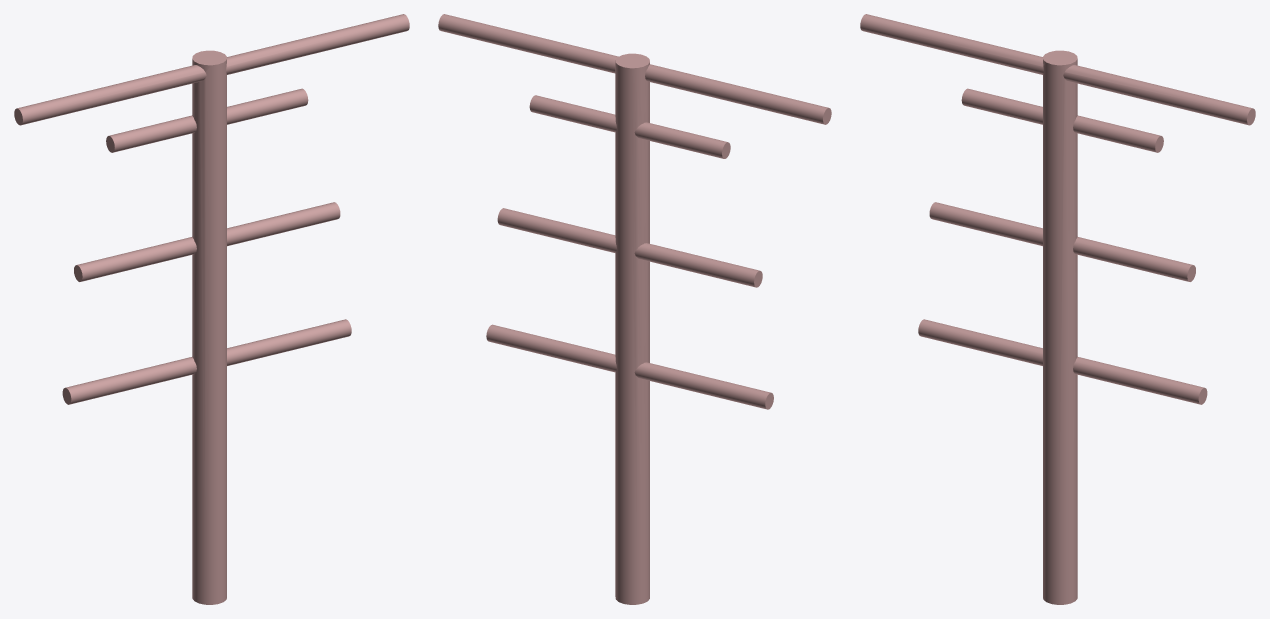
Rendered from Sail3_Mast.fbx.
The picture shows the model from 3 angles, left to right: view 1: azimuth 30°, elevation 25°; view 2: azimuth 150°, elevation 25°; view 3: azimuth 330°, elevation 25°; orthographic projection.
Visible parts, largest first — view 1: Model; view 2: Model; view 3: Model.
Boxes of the visible parts, bbox=[...] form: Model: bbox=[14, 14, 409, 604]; Model: bbox=[438, 14, 831, 604]; Model: bbox=[860, 14, 1255, 604].
Size of the model in its own units: 493 by 657 by 38.76.
